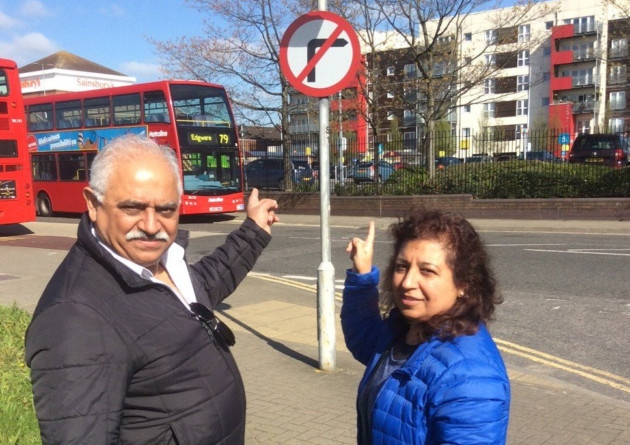No_right_turn: (278, 10, 361, 97)
